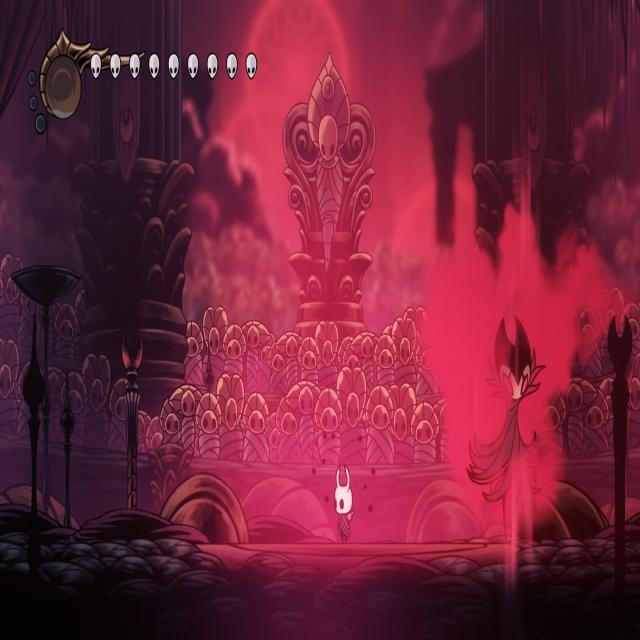Grimm: (464, 309, 549, 542)
Player: (333, 462, 358, 546)
